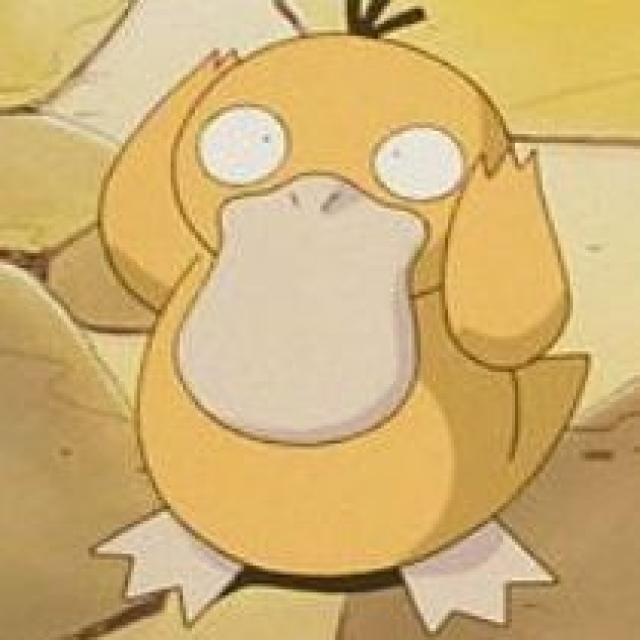Psyduck: (130, 29, 569, 578)
